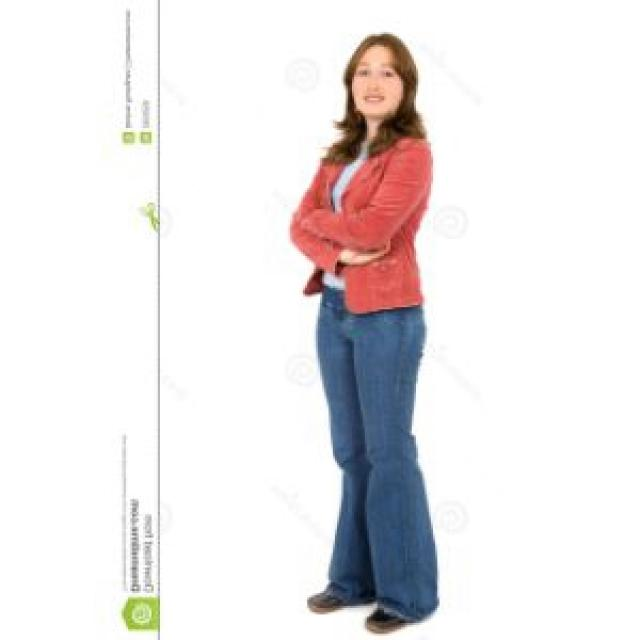adult: (262, 12, 476, 634)
